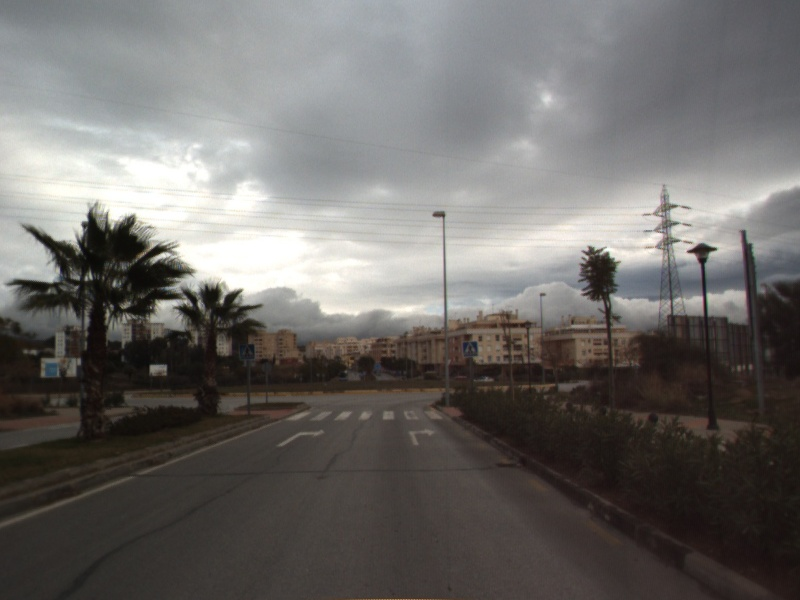RIGHT: (274, 427, 327, 449), (406, 426, 438, 447)
